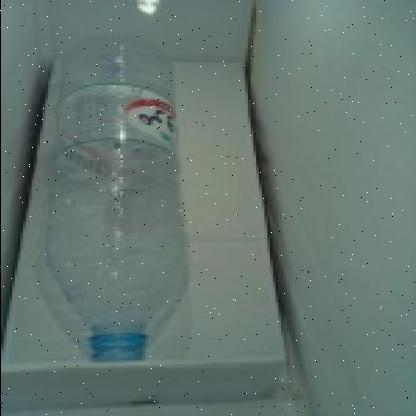Plastic Bottle: (46, 33, 186, 363)
